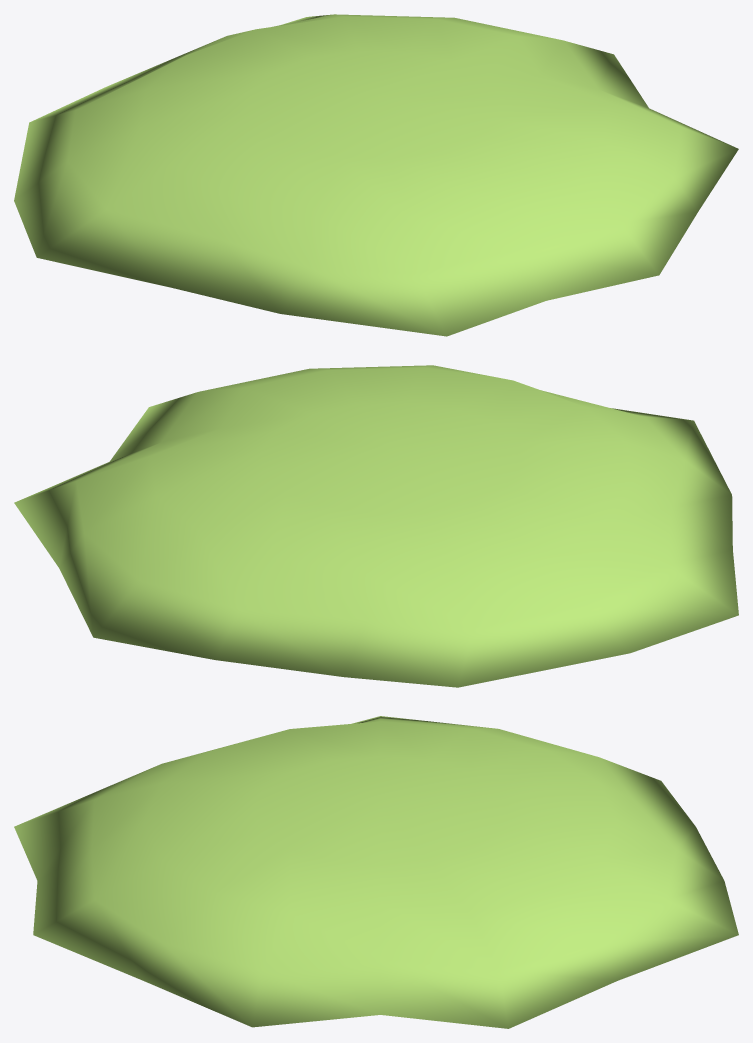
File: Slime.fbx
3 views of the same model, one above another, from view 1: azimuth 30°, elevation 25°; view 2: azimuth 150°, elevation 25°; view 3: azimuth 270°, elevation 25° (orthographic). The views are drawn at different scales.
Parts seen in each view (by area): view 1: Sphere; view 2: Sphere; view 3: Sphere.
Part boxes in pixels (x1=…): Sphere: x1=14, y1=14, x2=738, y2=336; Sphere: x1=14, y1=365, x2=738, y2=687; Sphere: x1=14, y1=716, x2=738, y2=1028.
Bounding box in the file's own units: 221 × 26.61 × 216.
